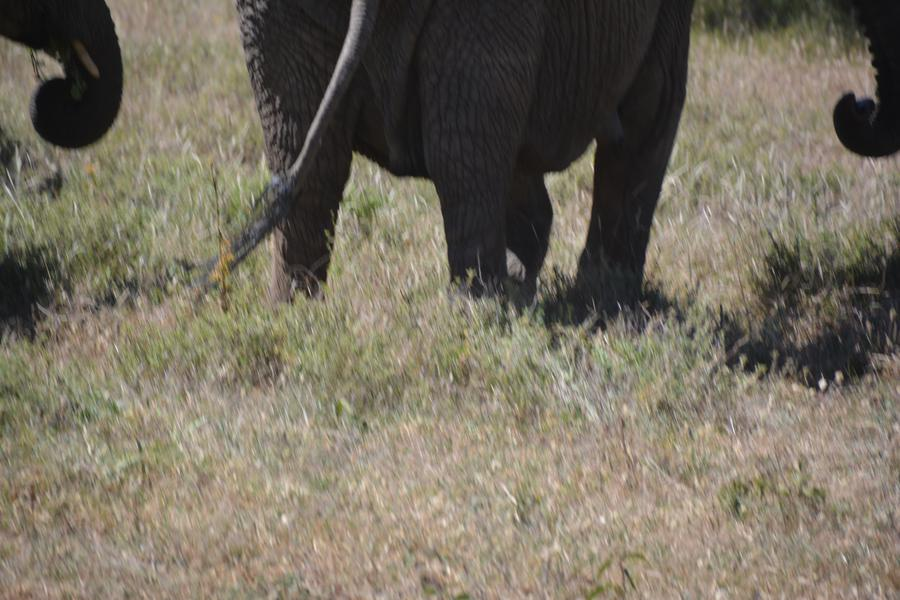elephant: (243, 8, 698, 283)
